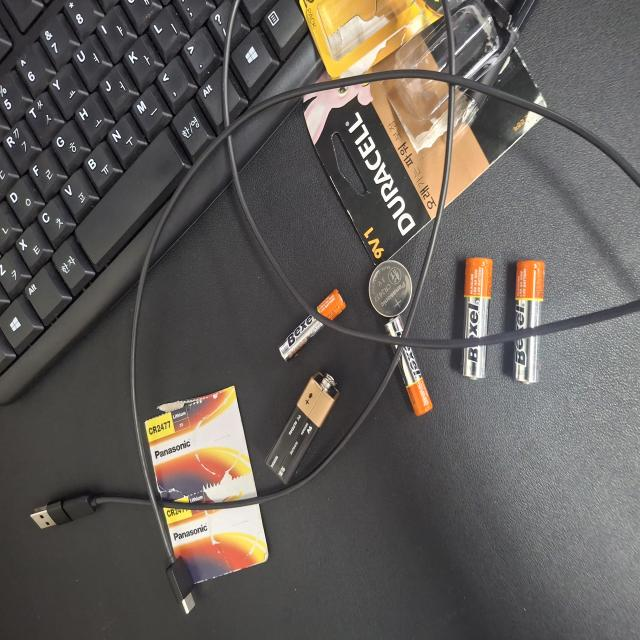9V: (117, 358, 200, 451)
AA: (193, 611, 289, 640)
AAA: (167, 511, 246, 575), (209, 373, 261, 450)
COIN: (242, 492, 286, 550)
